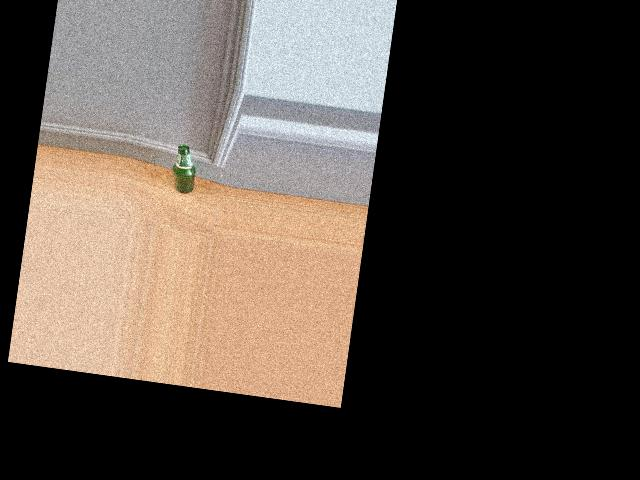beer: (169, 143, 199, 194)
